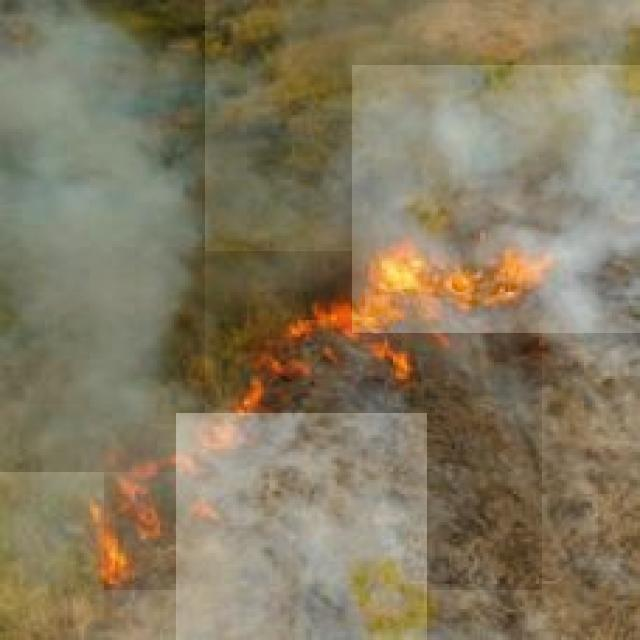Fire: (104, 251, 542, 590)
Smoke: (0, 0, 205, 472), (352, 65, 640, 333), (176, 413, 427, 640)
